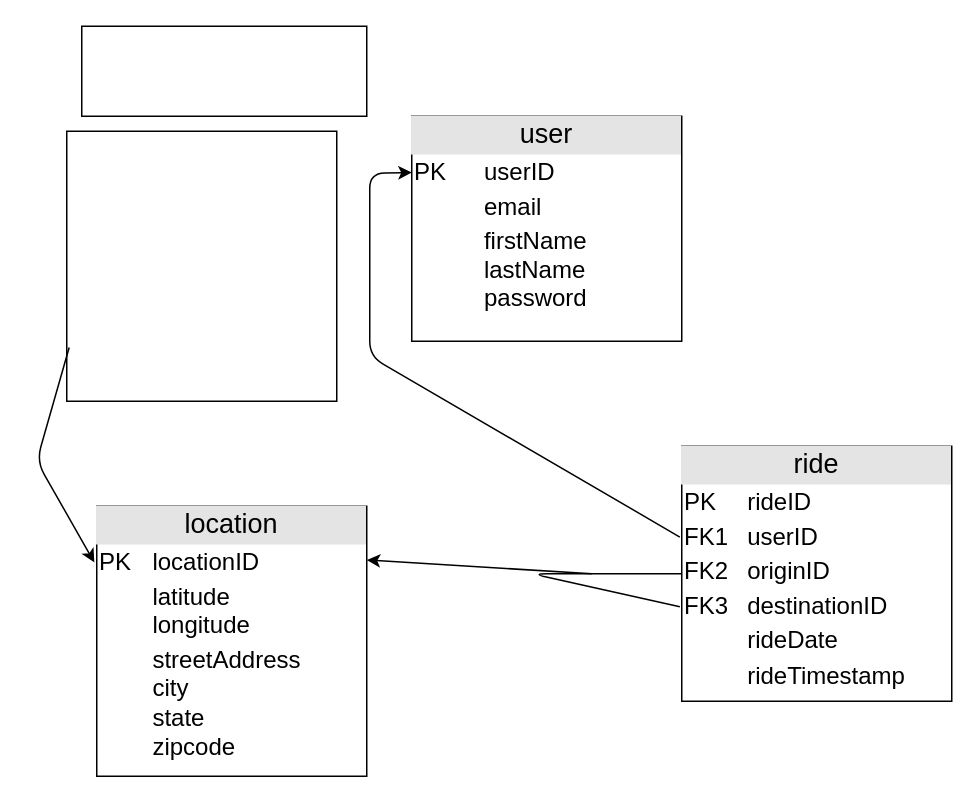
Image size: 978x803. Some labels were removed from this diagram. The shapes that lost their labels are listed below. From the top down, each one's centre as x and y in pixels, then its label:
the point at 223,70: RideShare Relational Model
the point at 201,265: driver PK driverID email firstName lastName password FK1 driverLocation
